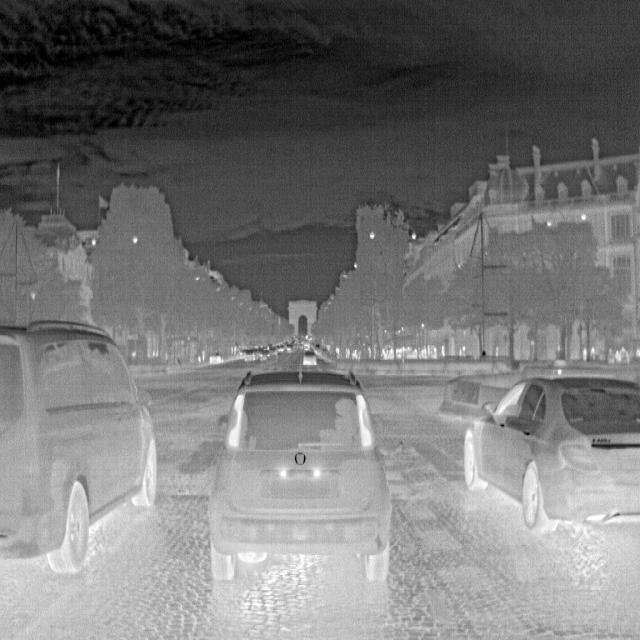Vehicle: (203, 359, 395, 591), (0, 315, 160, 576), (462, 358, 639, 538)
